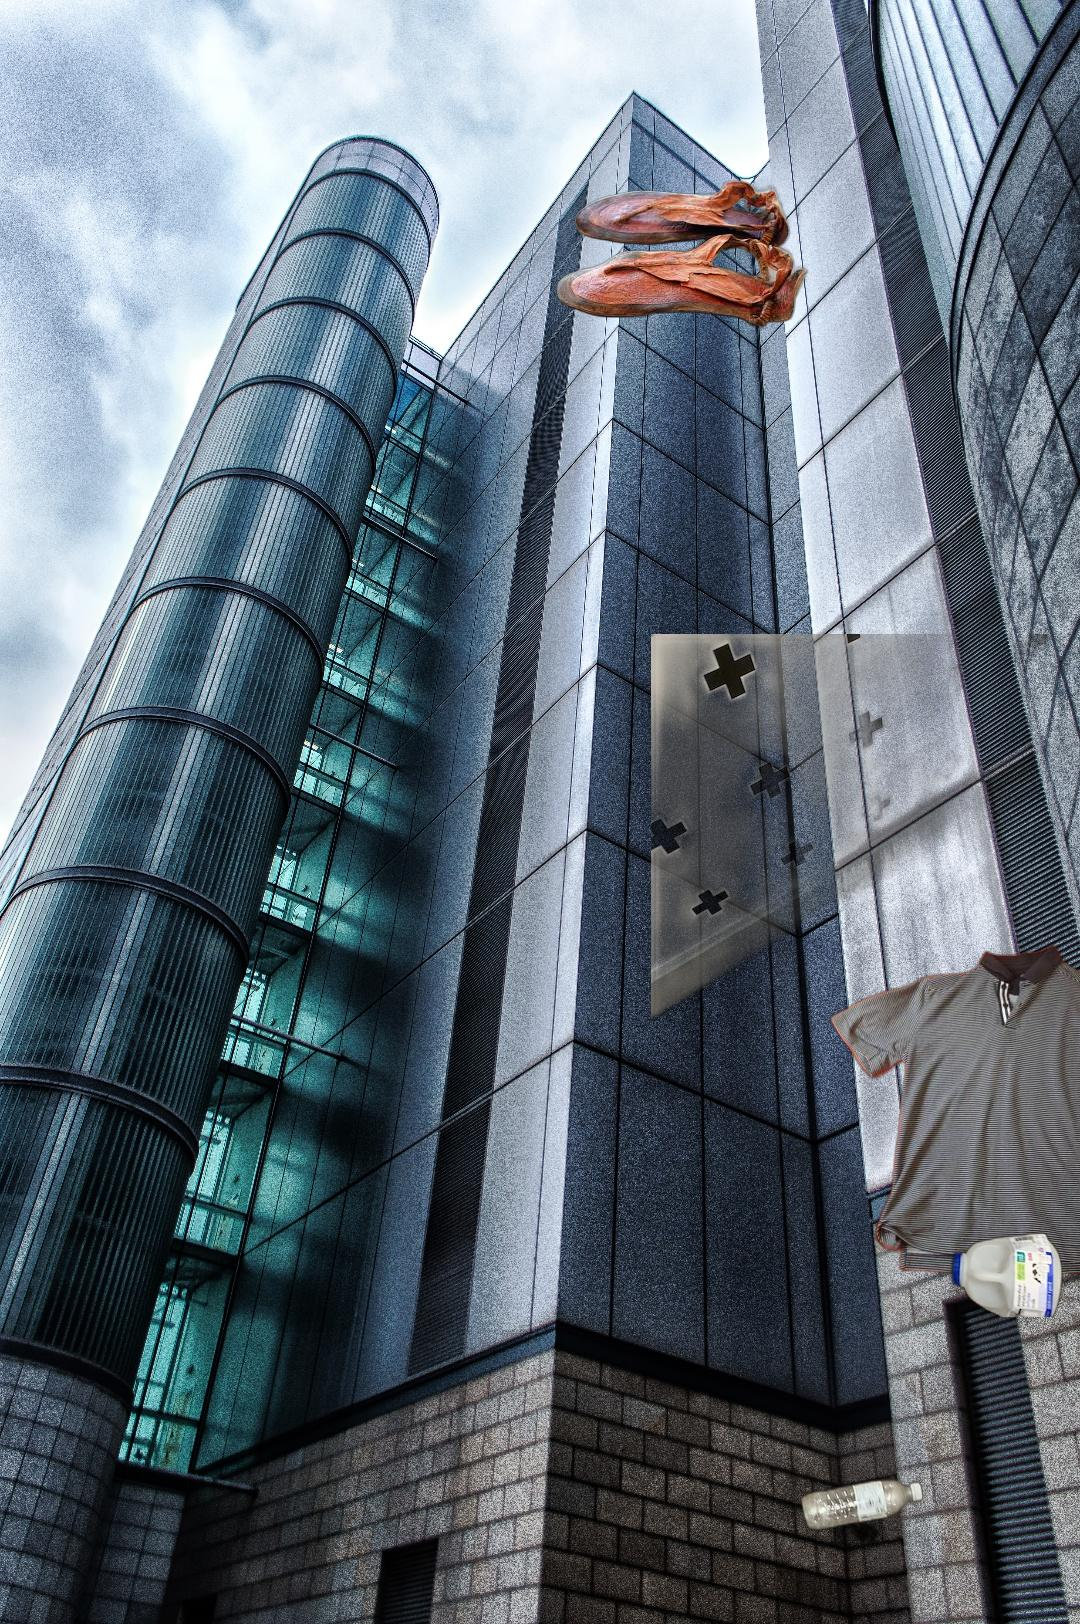clothes: (827, 940, 1080, 1279)
plastic-bottles: (651, 634, 1080, 1317), (796, 1472, 928, 1536)
shoes: (554, 177, 810, 330)
